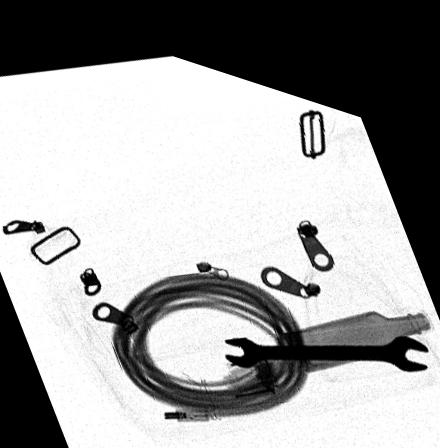Wrench: (224, 308, 430, 352)
